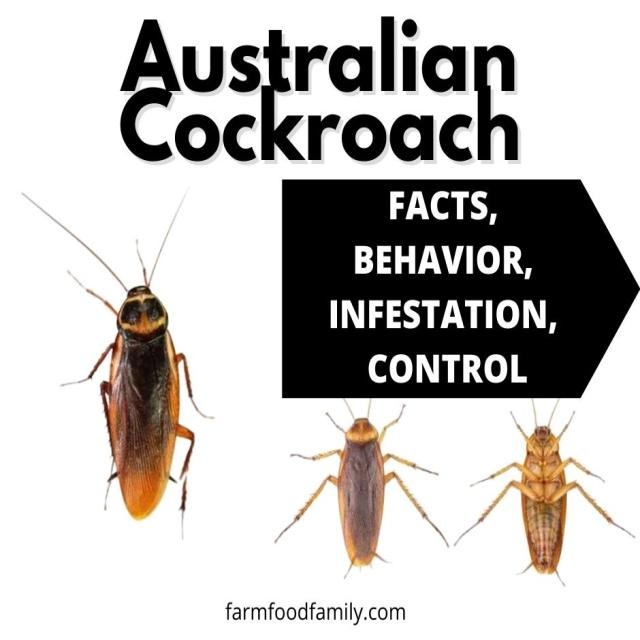Cockroach: (46, 207, 213, 530), (287, 396, 449, 578), (466, 402, 617, 590)
